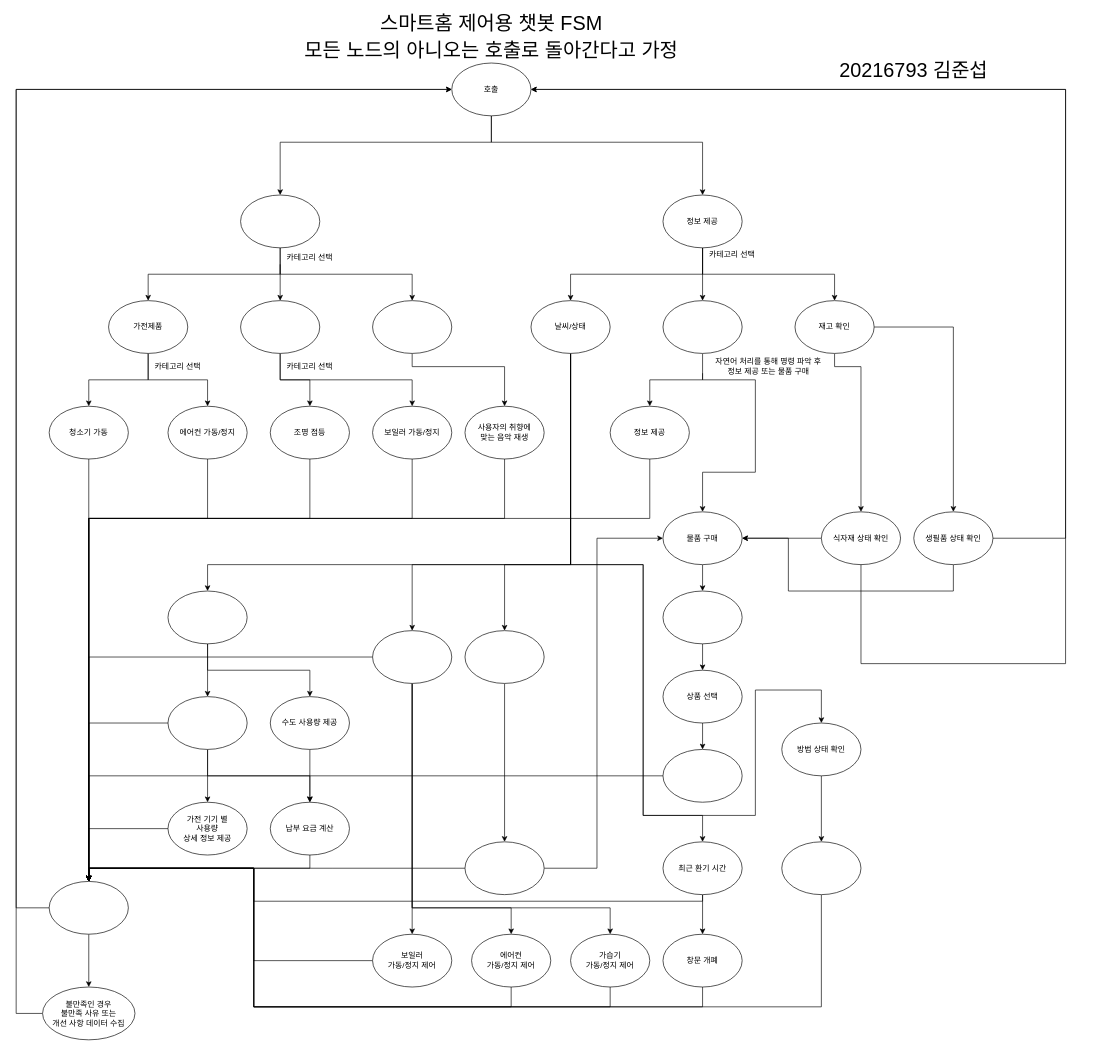
The diagram is 1104 pixels wide and 1051 high, and some of its shapes have lost their labels. Here are the shapes that lost their labels. From the top down, the centre of each, then its label:
At pixel 280 221: "명령 실행".
At pixel 280 326: "집안 상태 (조명 보일러 등...)".
At pixel 412 326: "미디어".
At pixel 702 326: "인터넷 검색".
At pixel 207 617: "사용량 데이터 제공".
At pixel 702 617: "리스트 제공".
At pixel 412 656: "집 내부 온도/습도".
At pixel 504 656: "날씨 정보 확인".
At pixel 207 722: "전기 사용 총량 제공".
At pixel 702 775: "주문".
At pixel 504 868: "챙겨나가야 할 물품 정리 (ex.우산)".
At pixel 821 868: "녹화된 영상 확인".
At pixel 88 907: "사용자 만족도 데이터 수집".
